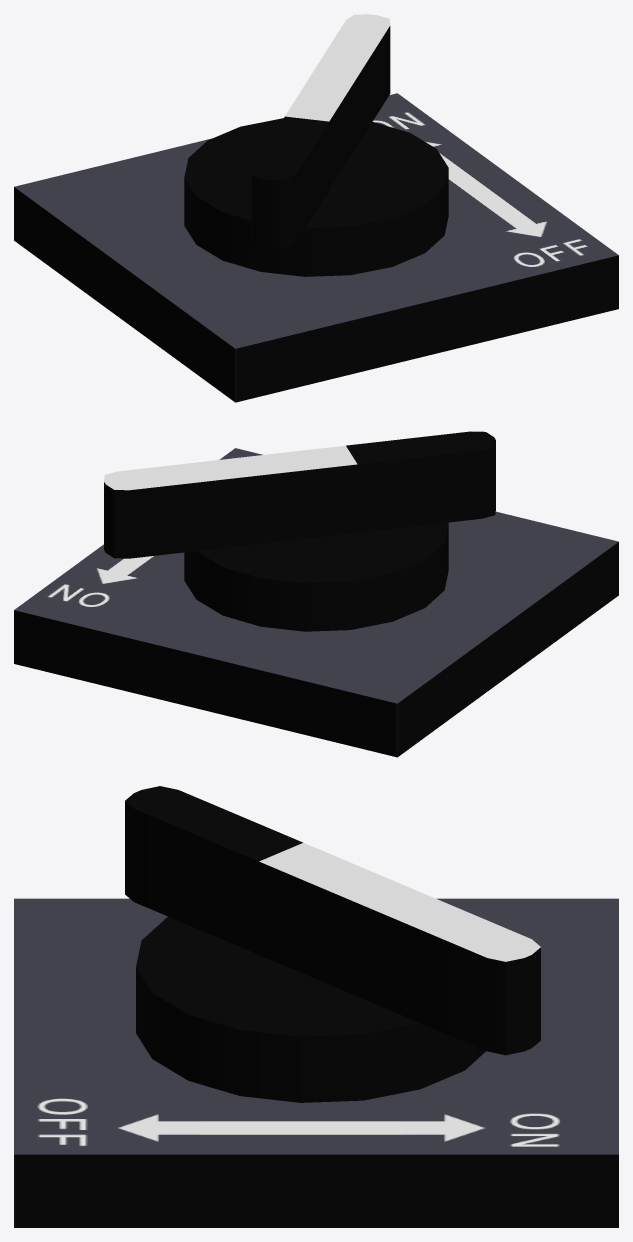
Rendered from switch_on-off.fbx.
3 views of the same model, one above another, from view 1: azimuth 30°, elevation 25°; view 2: azimuth 150°, elevation 25°; view 3: azimuth 270°, elevation 25° (orthographic). The views are drawn at different scales.
Visible parts, largest first — view 1: selector_on-off, switch002; view 2: selector_on-off, switch002; view 3: selector_on-off, switch002.
Boxes of the visible parts, <box> form: selector_on-off: <box>14,93,618,402</box>; switch002: <box>184,14,448,276</box>; selector_on-off: <box>14,448,618,757</box>; switch002: <box>104,431,495,631</box>; selector_on-off: <box>14,898,618,1227</box>; switch002: <box>125,786,540,1102</box>.
Size of the model in its own units: 3.98 by 1.69 by 3.98.
